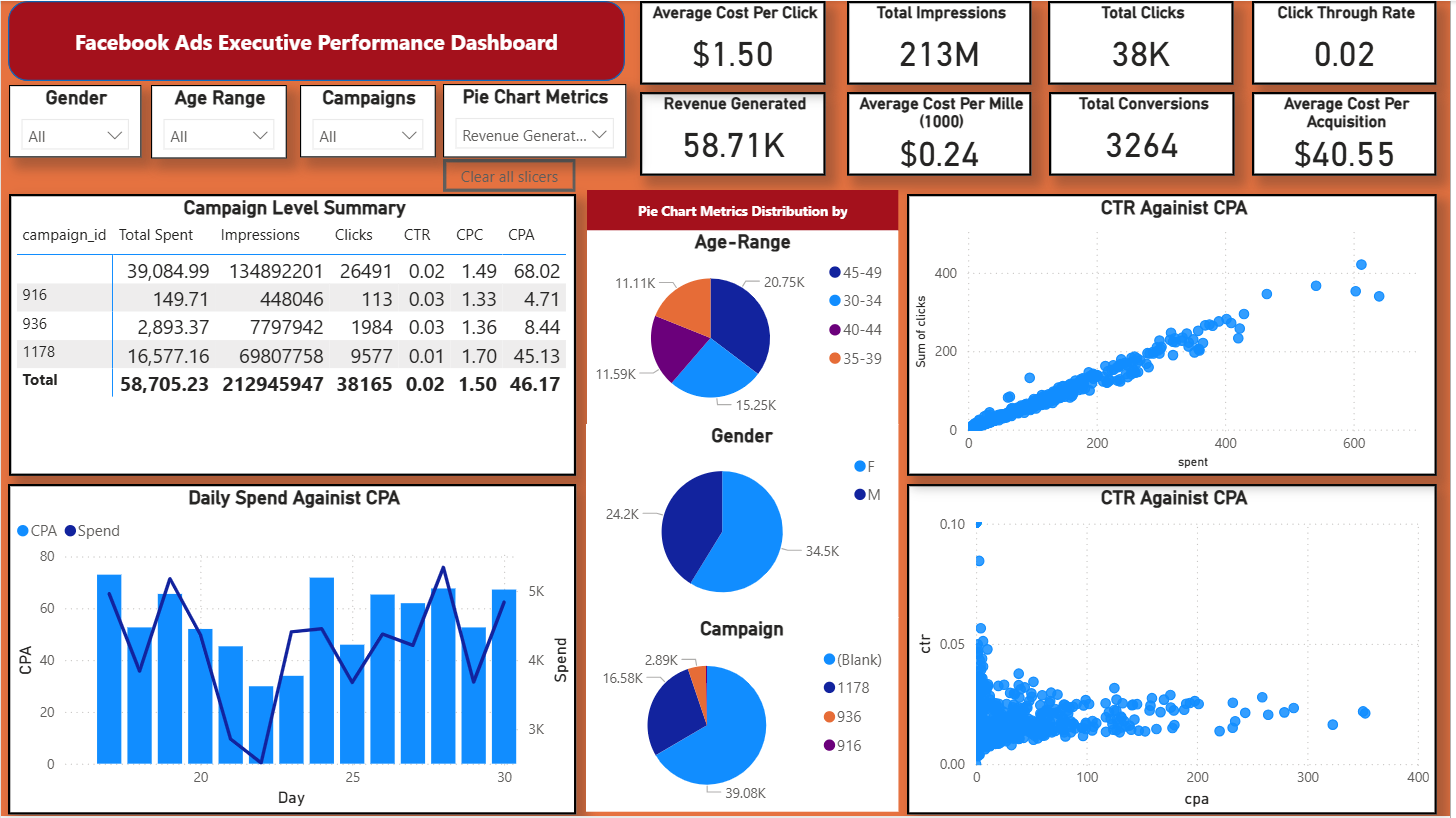

The dashboard page shown, as its layout file describes it:
{"tool":"powerbi","page":{"name":"Dashboard","canvas":[1280,720],"ordinal":0},"visuals":[{"type":"card","title":"Total Impressions","fields":{"Values":["Sum(public vw_performance_complete.impressions)"]},"box":[746.9,0,163.1,73.7],"z":0},{"type":"pieChart","title":"Gender","fields":{"Category":["public audience_segments.gender"],"Y":["public vw_performance_complete.revenue-generated"]},"box":[517,374,275.6,171.4],"z":0,"group":"g1"},{"type":"card","title":"Revenue Generated","fields":{"Values":["Sum(public vw_performance_complete.spent)"]},"box":[564.7,80.7,164,73.7],"z":1000},{"type":"pieChart","title":"Age-Range","fields":{"Category":["public audience_segments.age_range"],"Y":["public vw_performance_complete.revenue-generated"]},"box":[518,202.6,275.2,171.8],"z":1000,"group":"g1"},{"type":"card","title":"Total Clicks","fields":{"Values":["Sum(public vw_performance_complete.clicks)"]},"box":[924.7,0,164,73.7],"z":2000},{"type":"pieChart","title":"Campaign","fields":{"Category":["public campaigns.campaign_id"],"Y":["public vw_performance_complete.revenue-generated"]},"box":[517,544,275.6,172.3],"z":2000,"group":"g1"},{"type":"card","title":"Click Through Rate","fields":{"Values":["public vw_performance_complete.all_data_ctr"]},"box":[1105.2,0,163.1,73.7],"z":3000},{"type":"shape","box":[518,167,275.2,35.6],"z":3000,"group":"g1"},{"type":"card","title":"Average Cost Per Click","fields":{"Values":["Median(public vw_performance_complete.cpc)"]},"box":[564.7,0,164,73.7],"z":4000},{"type":"card","title":"Average Cost Per Mille  (1000)","fields":{"Values":["Avg(public vw_performance_complete.cpm)"]},"box":[746.9,80.7,163.1,73.7],"z":5000},{"type":"card","title":"Total Conversions","fields":{"Values":["Sum(public vw_performance_complete.total_conversion)"]},"box":[925.6,80.7,164,73.7],"z":6000},{"type":"card","title":"Average Cost Per Acquisition","fields":{"Values":["Avg(public vw_performance_complete.cpa)"]},"box":[1105.2,80.7,163.1,73.7],"z":7000},{"type":"shape","box":[6.2,0,545,70.7],"z":8000},{"type":"pivotTable","title":"Campaign Level Summary","fields":{"Values":["Sum(public vw_ad_performance_ranking.total_spent)","Sum(public vw_ad_performance_ranking.total_impressions)","Sum(public vw_ad_performance_ranking.total_clicks)","Avg(public vw_ad_performance_ranking.ctr)","Avg(public vw_ad_performance_ranking.cpc)","Avg(public vw_ad_performance_ranking.cpa)"],"Rows":["public campaigns.campaign_id"]},"box":[7.1,170.5,500.9,249.1],"z":9000},{"type":"lineStackedColumnComboChart","title":"Daily Spend Againist CPA","fields":{"Y2":["Sum(public vw_daily_trends.daily_spend)"],"Y":["Sum(public vw_daily_trends.daily_cpa)"],"Category":["public vw_daily_trends.date.Variation.Date Hierarchy.Day"]},"box":[6.2,426.7,501.8,292.4],"z":10000},{"type":"slicer","title":"Gender","fields":{"Values":["public audience_segments.gender"]},"box":[6.9,74.6,117.1,64.2],"z":11000},{"type":"scatterChart","title":"CTR Againist CPA","fields":{"X":["public vw_performance_complete.cpa"],"Y":["public vw_performance_complete.ctr"]},"box":[800.3,426.7,468.2,292.4],"z":12000},{"type":"slicer","title":"Age Range","fields":{"Values":["public audience_segments.age_range"]},"box":[132.5,74.2,120.1,65.4],"z":13000},{"type":"actionButton","box":[390.4,139.6,117.5,29.2],"z":14000},{"type":"slicer","title":"Campaigns","fields":{"Values":["public campaigns.campaign_id"]},"box":[264.1,74.2,120.1,64.5],"z":15000},{"type":"scatterChart","title":"CTR Againist CPA","fields":{"X":["public vw_performance_complete.spent"],"Y":["Sum(public vw_performance_complete.clicks)"]},"box":[800.3,170.5,468.2,249.1],"z":16000},{"type":"group","id":"g1","title":"Group 1","box":[517,167,276.2,549.3],"z":17000},{"type":"slicer","title":"Pie Chart Metrics","fields":{"Values":["Pie Chart Metrics.Pie Chart Metrics"]},"box":[390.4,73.3,161.7,65.4],"z":18000}]}

Visuals, with their boxes in screenshot pixels (x1, y1, x2, y2), scaled from the page's 1280x720 canvas onto the 1456x818 screenshot:
"Total Impressions" card: [left=850, top=0, right=1035, bottom=84]
"Gender" pieChart: [left=588, top=425, right=902, bottom=620]
"Revenue Generated" card: [left=642, top=92, right=829, bottom=175]
"Age-Range" pieChart: [left=589, top=230, right=902, bottom=425]
"Total Clicks" card: [left=1052, top=0, right=1238, bottom=84]
"Campaign" pieChart: [left=588, top=618, right=902, bottom=814]
"Click Through Rate" card: [left=1257, top=0, right=1443, bottom=84]
shape: [left=589, top=190, right=902, bottom=230]
"Average Cost Per Click" card: [left=642, top=0, right=829, bottom=84]
"Average Cost Per Mille  (1000)" card: [left=850, top=92, right=1035, bottom=175]
"Total Conversions" card: [left=1053, top=92, right=1239, bottom=175]
"Average Cost Per Acquisition" card: [left=1257, top=92, right=1443, bottom=175]
shape: [left=7, top=0, right=627, bottom=80]
"Campaign Level Summary" pivotTable: [left=8, top=194, right=578, bottom=477]
"Daily Spend Againist CPA" lineStackedColumnComboChart: [left=7, top=485, right=578, bottom=817]
"Gender" slicer: [left=8, top=85, right=141, bottom=158]
"CTR Againist CPA" scatterChart: [left=910, top=485, right=1443, bottom=817]
"Age Range" slicer: [left=151, top=84, right=287, bottom=159]
actionButton: [left=444, top=159, right=578, bottom=192]
"Campaigns" slicer: [left=300, top=84, right=437, bottom=158]
"CTR Againist CPA" scatterChart: [left=910, top=194, right=1443, bottom=477]
"Group 1" group: [left=588, top=190, right=902, bottom=814]
"Pie Chart Metrics" slicer: [left=444, top=83, right=628, bottom=158]
